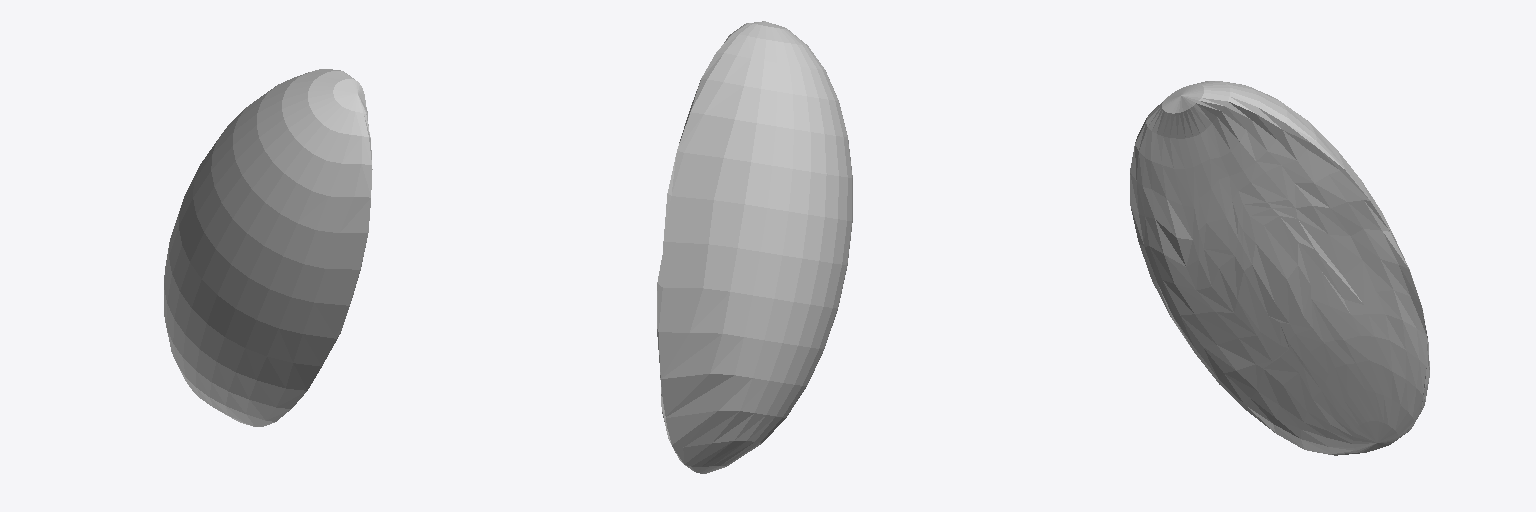
File: Right Hand.obj
The picture shows the model from 3 angles: view 1: azimuth 30°, elevation 25°; view 2: azimuth 150°, elevation 25°; view 3: azimuth 270°, elevation 25°; orthographic projection.
Parts seen in each view (by area): view 1: Right_Hand_Sphere.035; view 2: Right_Hand_Sphere.035; view 3: Right_Hand_Sphere.035.
Part boxes in pixels (bbox=[...]): Right_Hand_Sphere.035: bbox=[164, 69, 372, 426]; Right_Hand_Sphere.035: bbox=[657, 21, 852, 473]; Right_Hand_Sphere.035: bbox=[1130, 81, 1429, 455].
Bounding box in the file's own units: 0.1917 × 0.5342 × 0.3789.